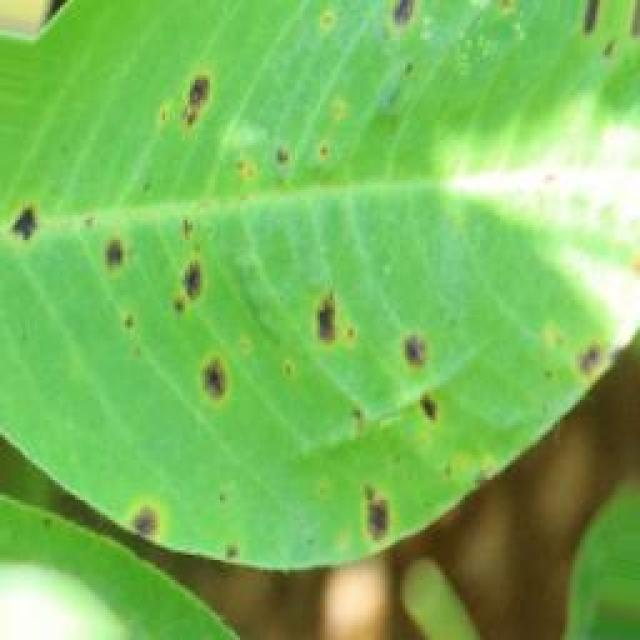Sigatoka: (163, 66, 266, 152), (142, 253, 232, 325), (557, 0, 640, 76), (389, 332, 451, 428), (163, 356, 247, 415), (335, 485, 399, 554), (5, 199, 63, 265), (306, 292, 356, 364), (88, 214, 139, 284), (552, 332, 612, 390), (124, 506, 198, 551), (292, 144, 366, 183), (372, 0, 434, 43), (315, 12, 365, 50), (258, 361, 303, 399)
